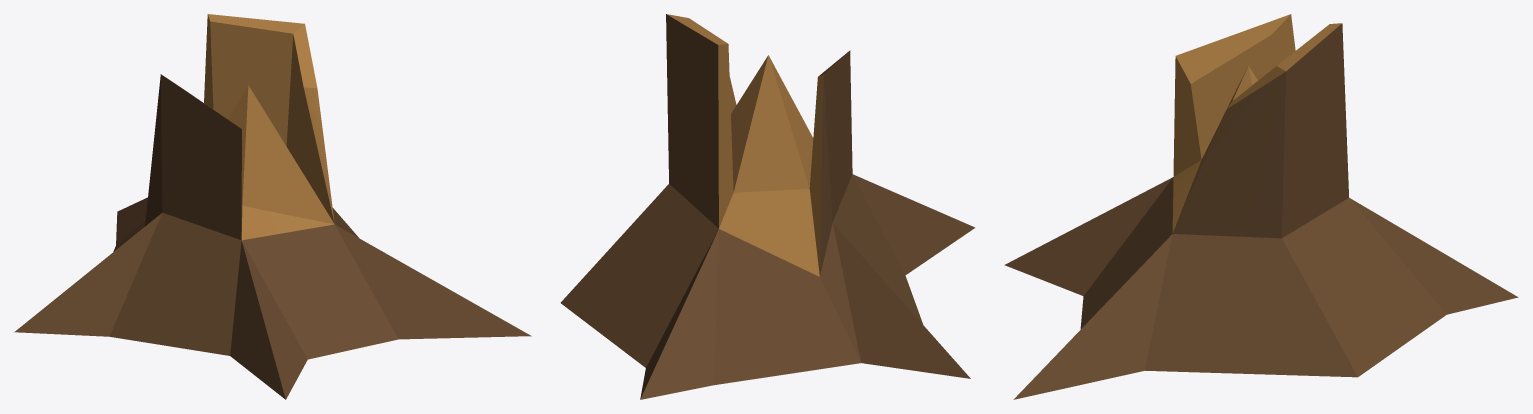
The model's file is stump-torn.fbx.
3 renders of one model, left to right at view 1: azimuth 30°, elevation 25°; view 2: azimuth 150°, elevation 25°; view 3: azimuth 270°, elevation 25°, orthographic. The views are drawn at different scales.
Visible parts, largest first — view 1: stump-torn; view 2: stump-torn; view 3: stump-torn.
Part boxes in pixels (x1,y1,x2,y2): stump-torn: [14, 14, 531, 399]; stump-torn: [560, 14, 975, 399]; stump-torn: [1004, 14, 1518, 399].
Bounding box in the file's own units: 1.36 × 0.8679 × 1.43.
